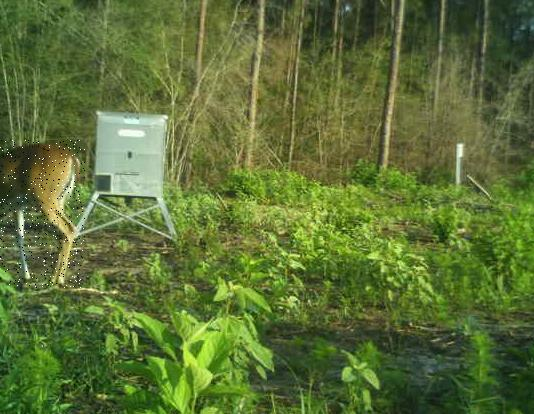Deer: (0, 140, 85, 288)
